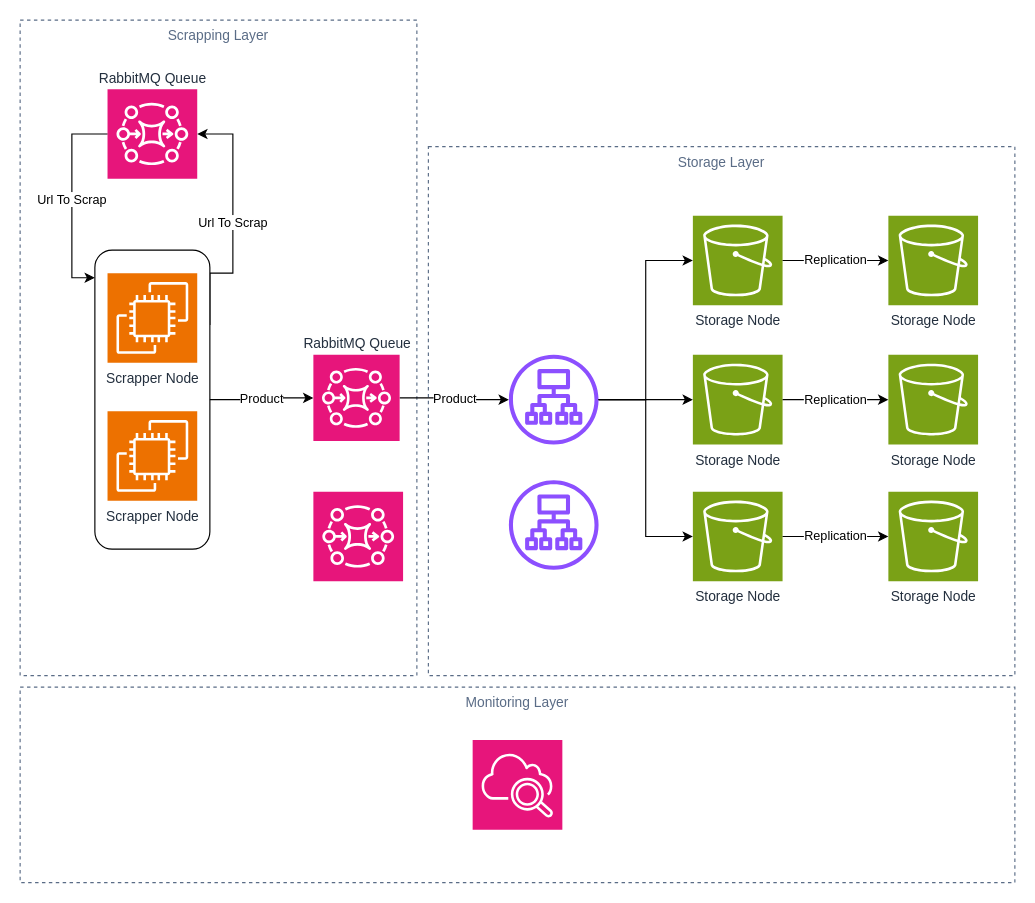
Some shapes in this 1035 by 903 pixel diagram are drawn without their labels. Each missing label, with the centre of its shape:
"Load Balancer" goes at (553,399).
"Monitor" goes at (516,784).
"Standby LB" goes at (553,524).
"Standby Queue" goes at (357,535).
